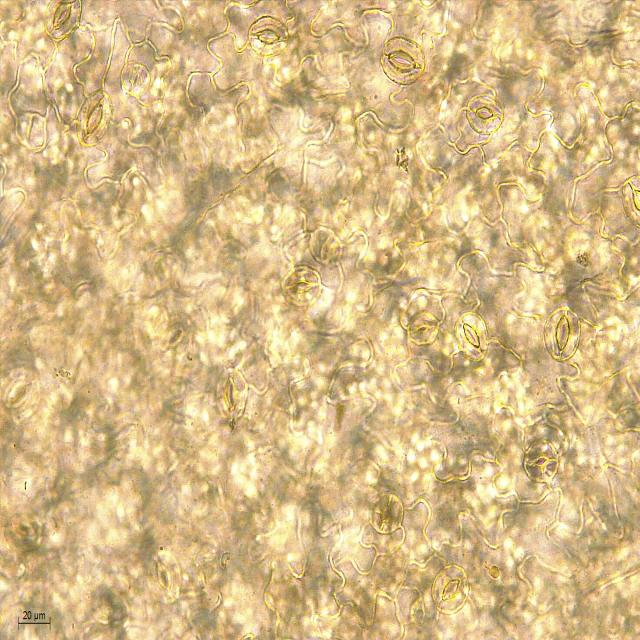Stomata: (148, 308, 199, 373), (73, 86, 116, 150), (0, 364, 44, 425), (378, 34, 426, 86), (0, 504, 47, 556), (144, 546, 184, 606), (542, 304, 581, 364), (213, 364, 252, 424), (452, 308, 492, 366), (430, 562, 472, 616), (246, 11, 292, 59), (366, 486, 406, 538), (40, 0, 86, 44), (279, 263, 322, 310), (521, 437, 562, 485), (465, 92, 505, 138), (406, 308, 442, 349), (118, 60, 152, 100), (619, 172, 640, 232)
